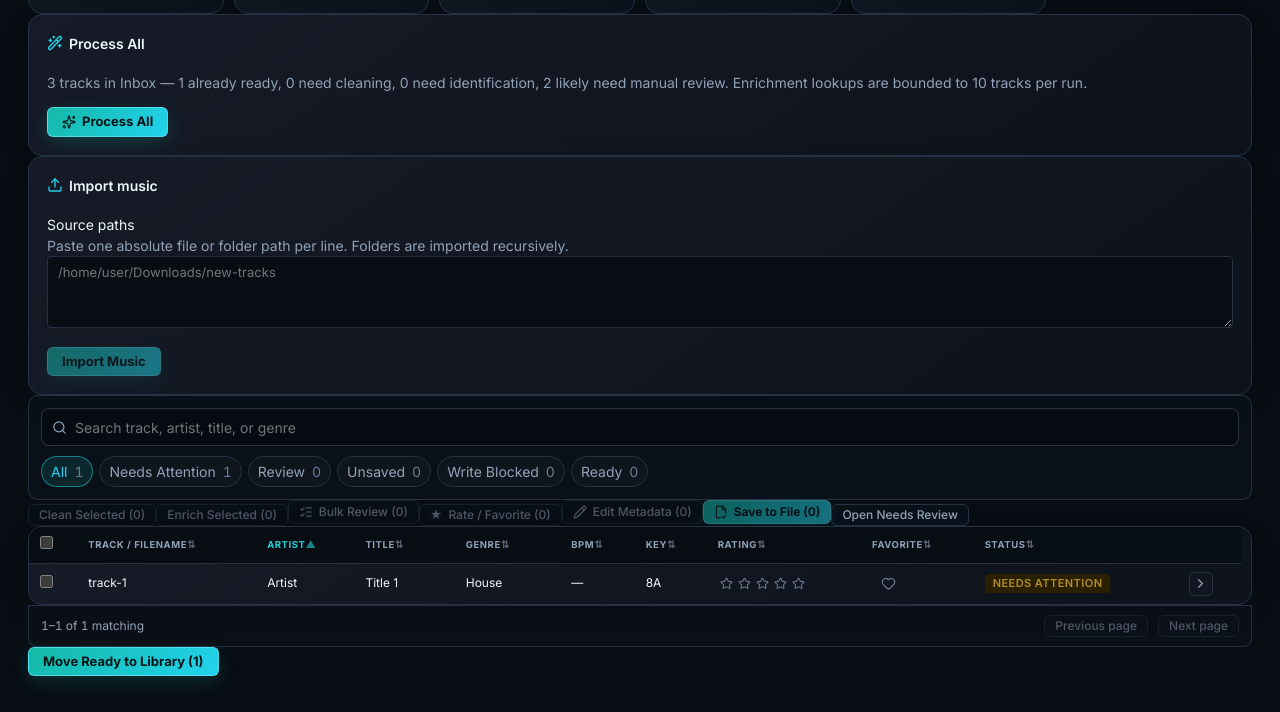
Scenario: Inbox filtering, selection, and inspector › keeps higher-precedence status counts while exposing pending unsaved fields
The width and height of the screenshot is (1280, 712).
(page scrolled)
Check: the button "Unsaved 0" is shown, box [337,456,431,487]
Click the button named "Inspect track-1.mp3" at (1200, 584), box [1188,572,1212,596]
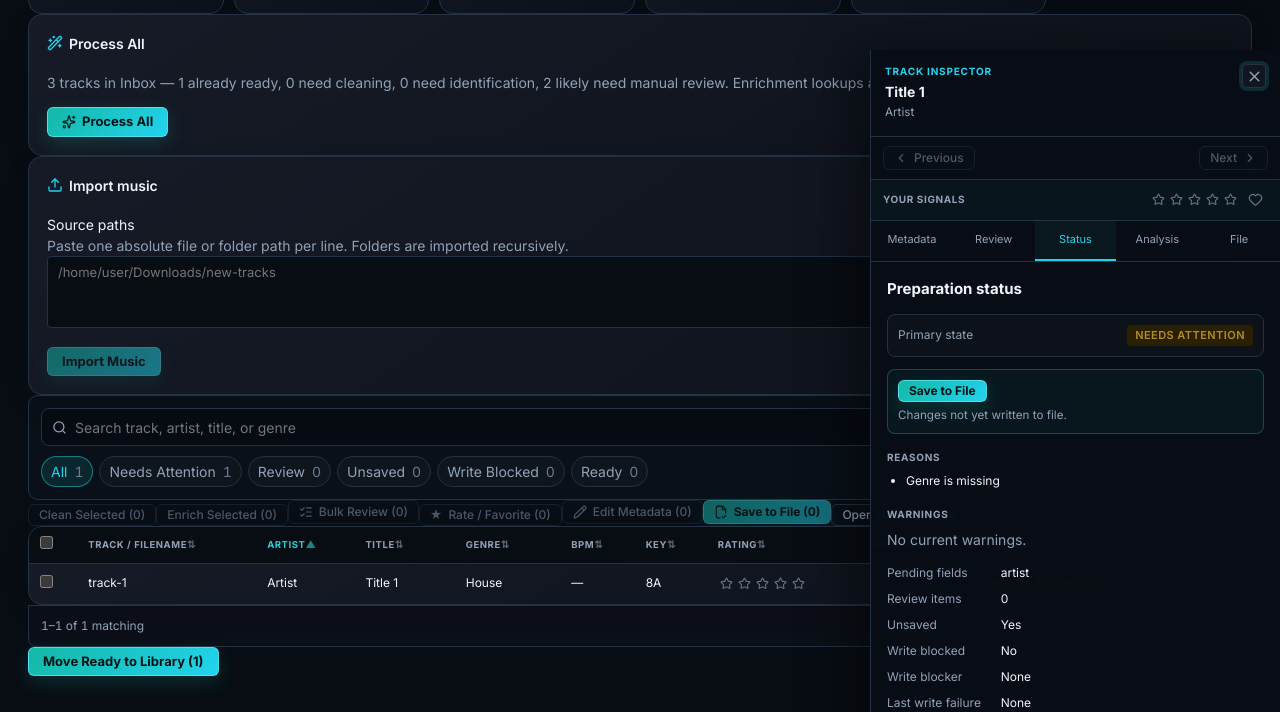
Check: the text "Needs Attention" is shown, box [1127,325,1253,346]
Check: the text "artist" is shown, box [1001,565,1029,580]
Check: the text "Yes" is shown, box [1001,617,1021,632]
